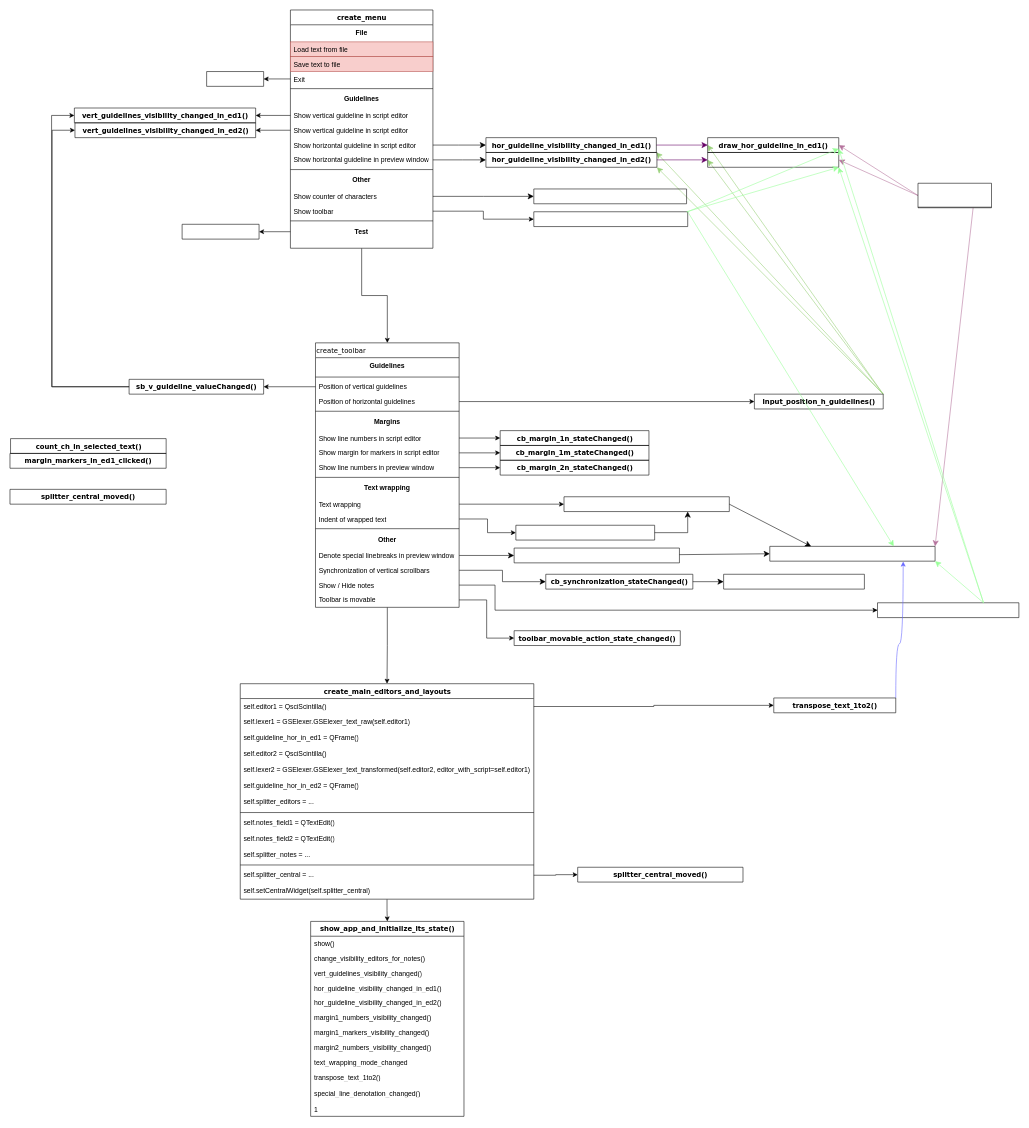
The diagram is 1029 pixels wide and 1128 high, and some of its shapes have lost their labels. The shapes that lost their labels are listed below. From the top down, each one's centre as x and y in pixels, then its label:
At (x=235, y=78): "exit_app()".
At (x=773, y=159): "draw_hor_guideline_in_ed2()".
At (x=610, y=196): "counter_of_chars_visibility_changed".
At (x=954, y=195): "resizeEvent() (of the app)".
At (x=220, y=231): "fn_test_action()".
At (x=610, y=219): "toolbar_visibility_changed()".
At (x=646, y=504): "cb_text_wrapping_stateChanged()".
At (x=585, y=532): "sb_wrap_indent_valueChanged()".
At (x=596, y=555): "cb_spec_linebreaks_stateChanged()".
At (x=852, y=553): "show_lines_for_special_linebreaks()".
At (x=793, y=581): "synchronize_editors_1to2".
At (x=948, y=610): "cb_temp_notes_stateChanged()".
